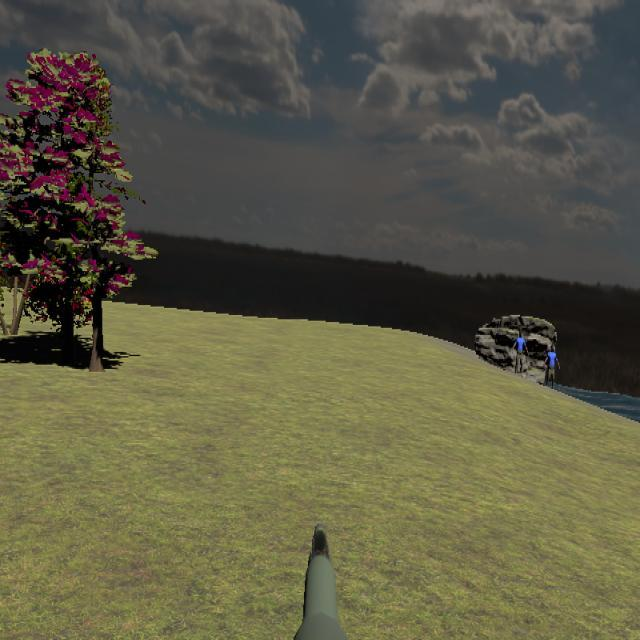Human: (512, 330, 529, 378), (544, 345, 560, 393)
